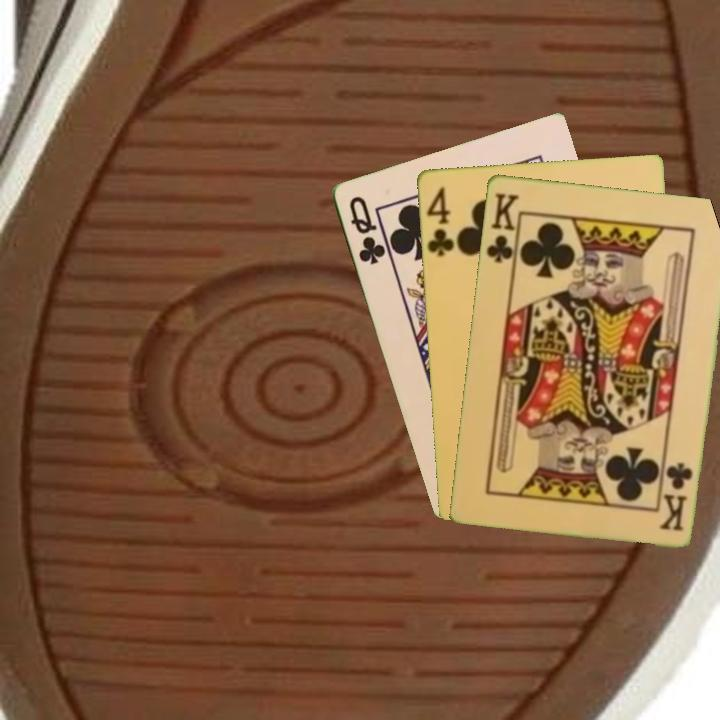4c: (422, 183, 457, 258)
Kc: (482, 189, 522, 270), (657, 458, 695, 533)
Qc: (345, 192, 388, 268)
